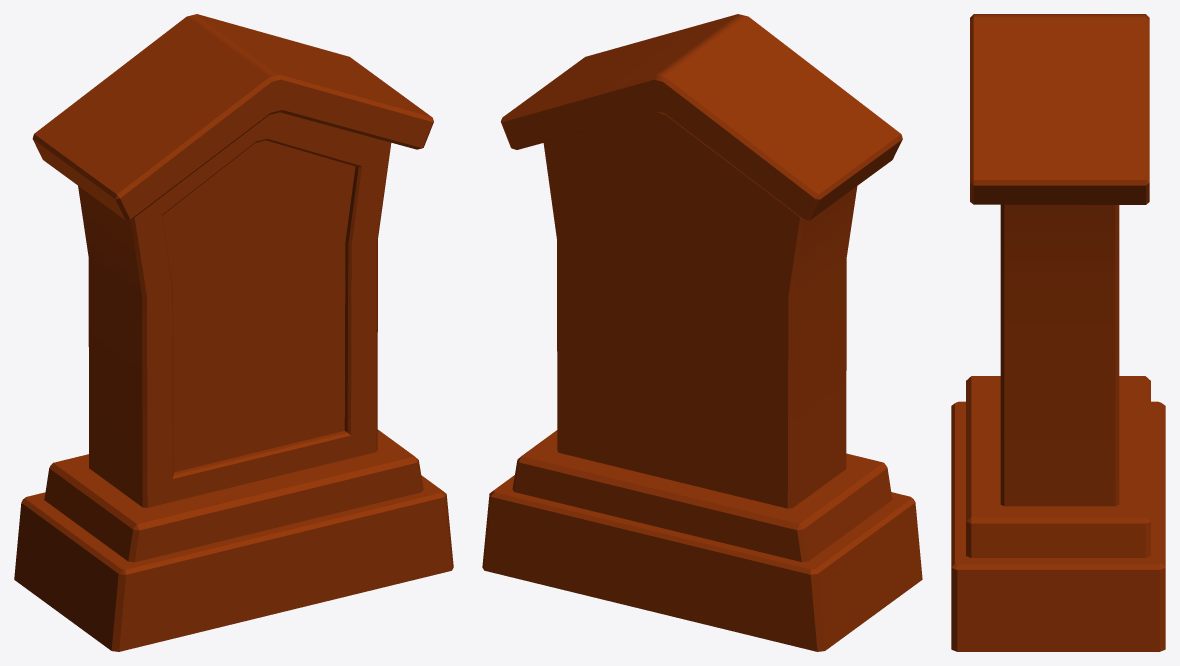
The model's file is Tomb_05.fbx.
The picture shows the model from 3 angles, left to right: view 1: azimuth 30°, elevation 25°; view 2: azimuth 150°, elevation 25°; view 3: azimuth 270°, elevation 25°; orthographic projection. The views are drawn at different scales.
Visible parts, largest first — view 1: Tomb_05; view 2: Tomb_05; view 3: Tomb_05.
Boxes of the visible parts, left/top/right/bottom form: Tomb_05: left=14, top=14, right=453, bottom=651; Tomb_05: left=482, top=14, right=922, bottom=651; Tomb_05: left=951, top=14, right=1165, bottom=651.
Bounding box in the file's own units: 0.8085 × 1.19 × 0.4217.
